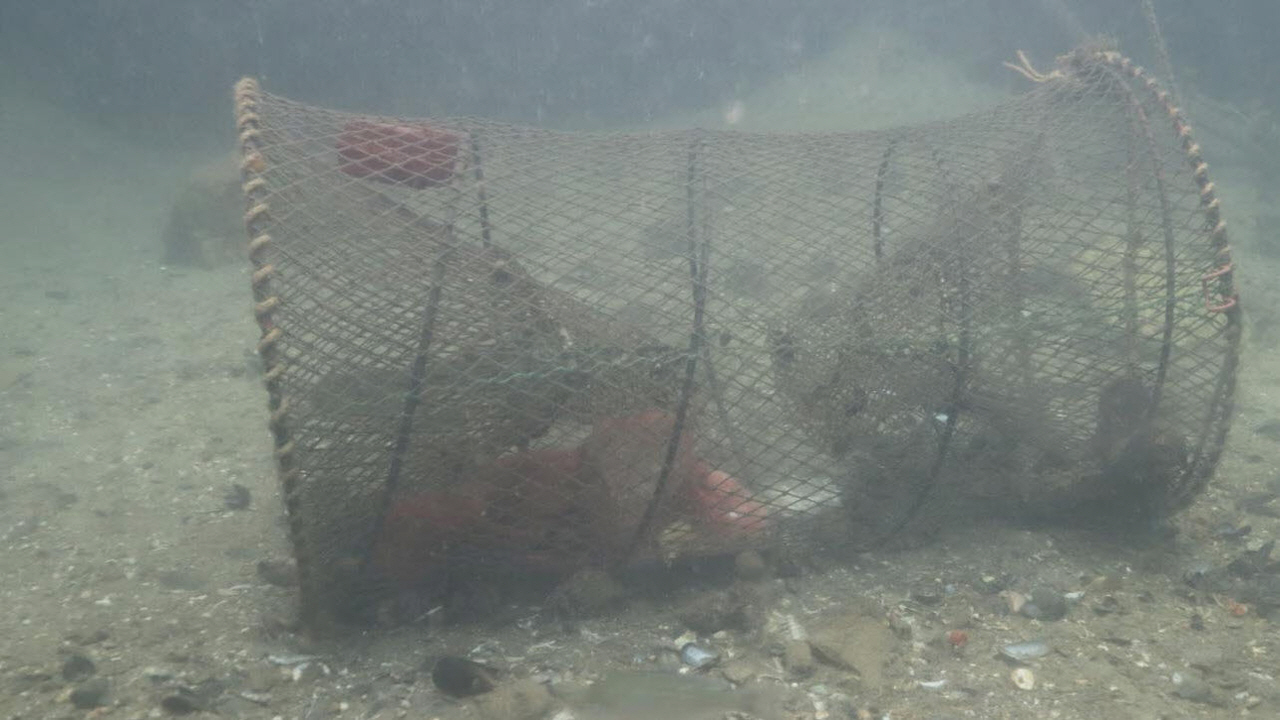spring fish trap: (231, 45, 1243, 622)
